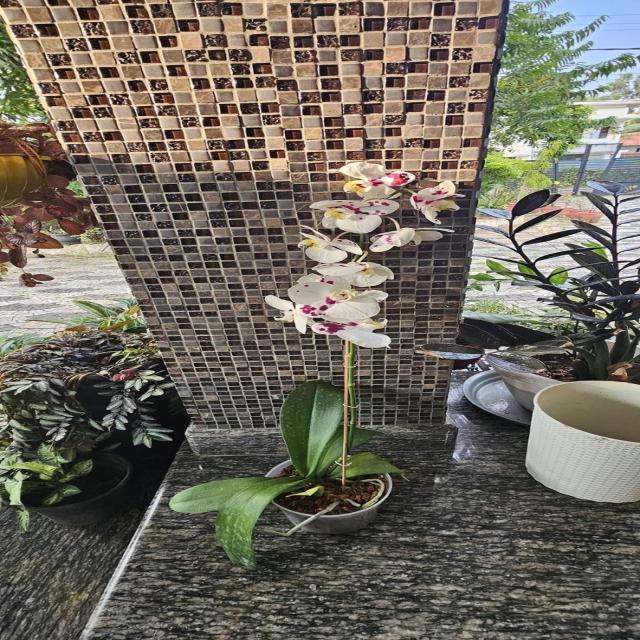flower: (288, 275, 386, 324), (312, 200, 398, 234), (339, 162, 414, 199), (411, 181, 463, 224), (298, 228, 361, 263), (312, 321, 389, 348), (314, 263, 393, 287), (370, 228, 442, 252)
leaf: (527, 383, 639, 503), (173, 476, 301, 563), (282, 383, 342, 474), (345, 456, 400, 477)
plant: (176, 61, 432, 635)
